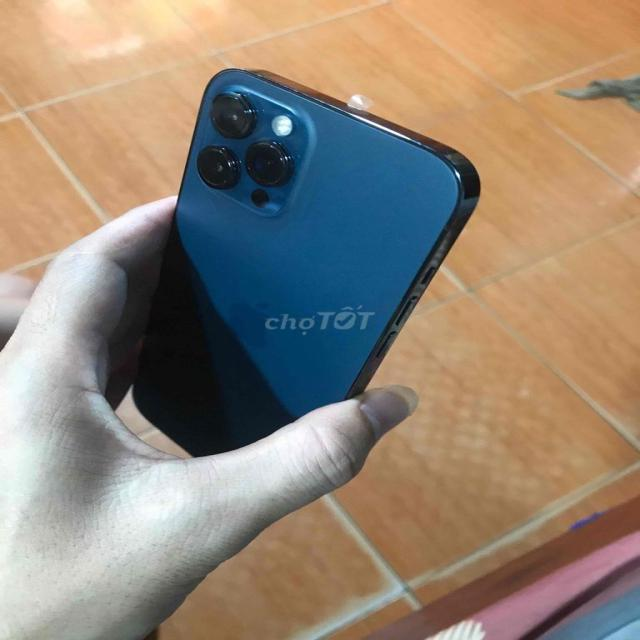gen_12_13: (124, 63, 483, 487)
